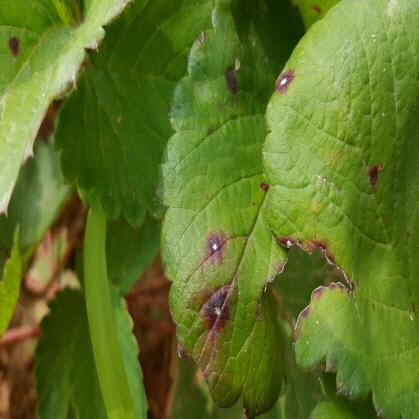Leaf Spot: (260, 0, 418, 418), (158, 0, 307, 418), (0, 0, 130, 218)
